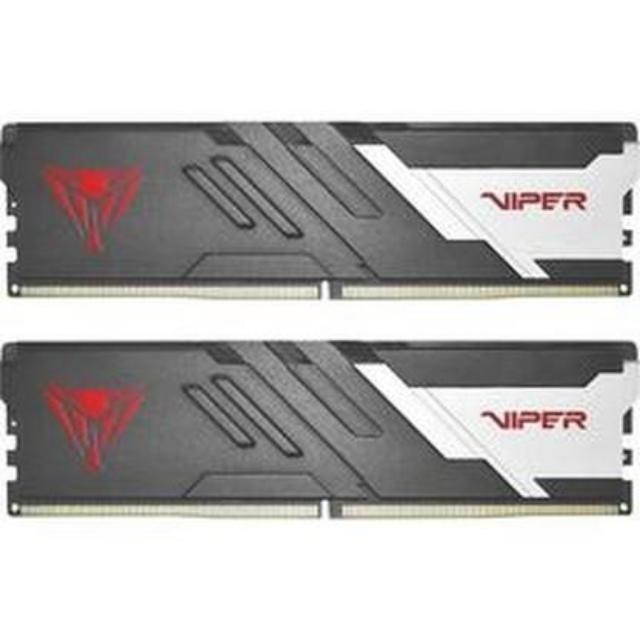RAM: (0, 110, 640, 316), (0, 336, 640, 526)
